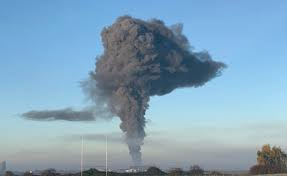smoke: (105, 29, 165, 95)
